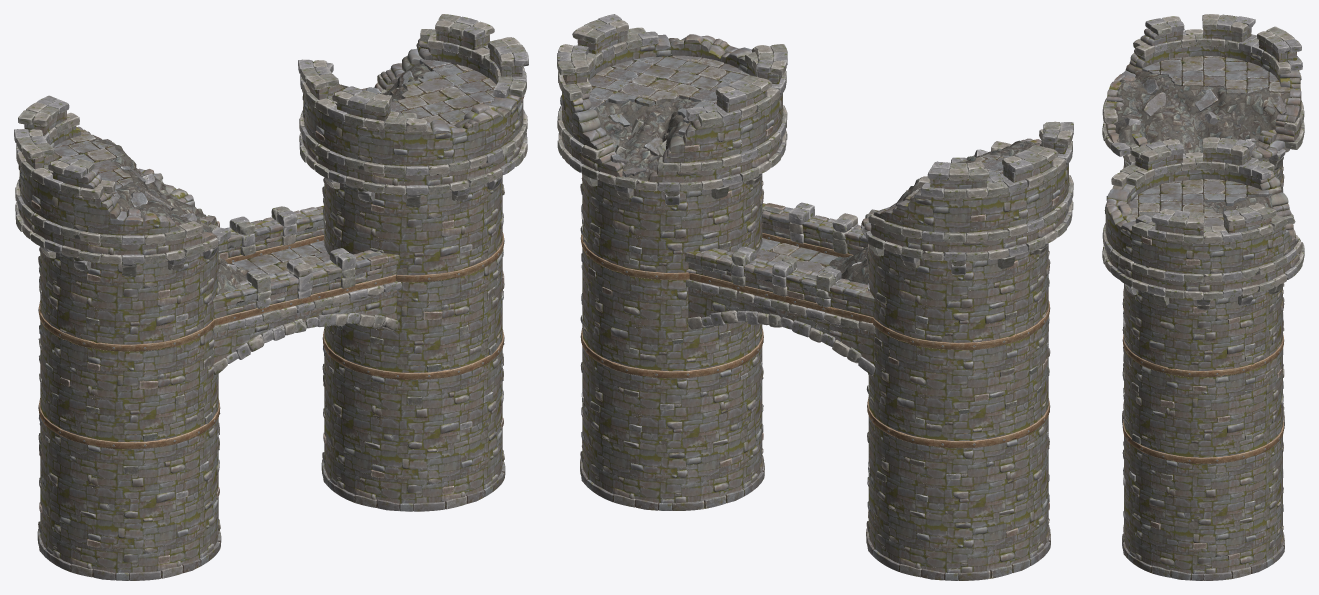
3 renders of one model, left to right at view 1: azimuth 30°, elevation 25°; view 2: azimuth 150°, elevation 25°; view 3: azimuth 270°, elevation 25°, orthographic. The views are drawn at different scales.
Visible parts, largest first — view 1: SM_Castle_Entrance_01_v3_Dmg_LOD0; view 2: SM_Castle_Entrance_01_v3_Dmg_LOD0; view 3: SM_Castle_Entrance_01_v3_Dmg_LOD0.
Part boxes in pixels (left/top/right/bottom): SM_Castle_Entrance_01_v3_Dmg_LOD0: left=14, top=14, right=528, bottom=580; SM_Castle_Entrance_01_v3_Dmg_LOD0: left=557, top=14, right=1073, bottom=580; SM_Castle_Entrance_01_v3_Dmg_LOD0: left=1102, top=14, right=1304, bottom=580.
Bounding box in the file's own units: 22.8 × 18.66 × 9.33.
Materials: 6 (6 with a texture image).
